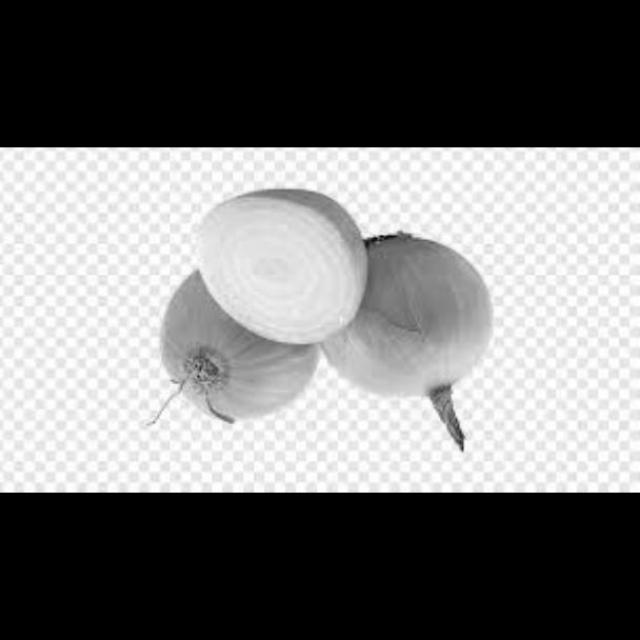cu hanh: (316, 229, 492, 403), (192, 188, 368, 345), (157, 277, 319, 426)
